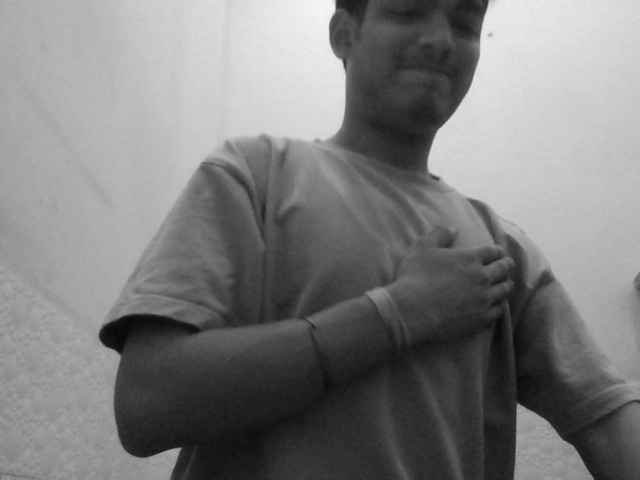Sorry: (349, 212, 567, 388)
